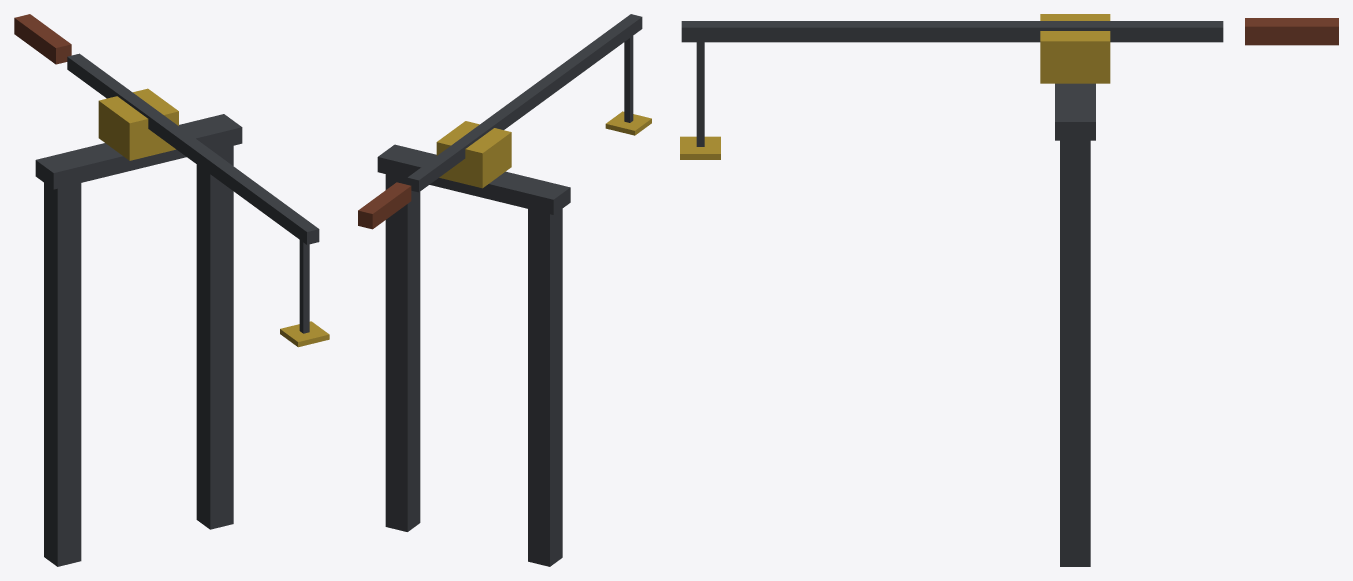
Rendered from landmark-crane.glb.
The picture shows the model from 3 angles, left to right: view 1: azimuth 30°, elevation 25°; view 2: azimuth 150°, elevation 25°; view 3: azimuth 270°, elevation 25°; orthographic projection. The views are drawn at different scales.
Bounding box in the file's own units: 8.4 × 18.7 × 22.5.
